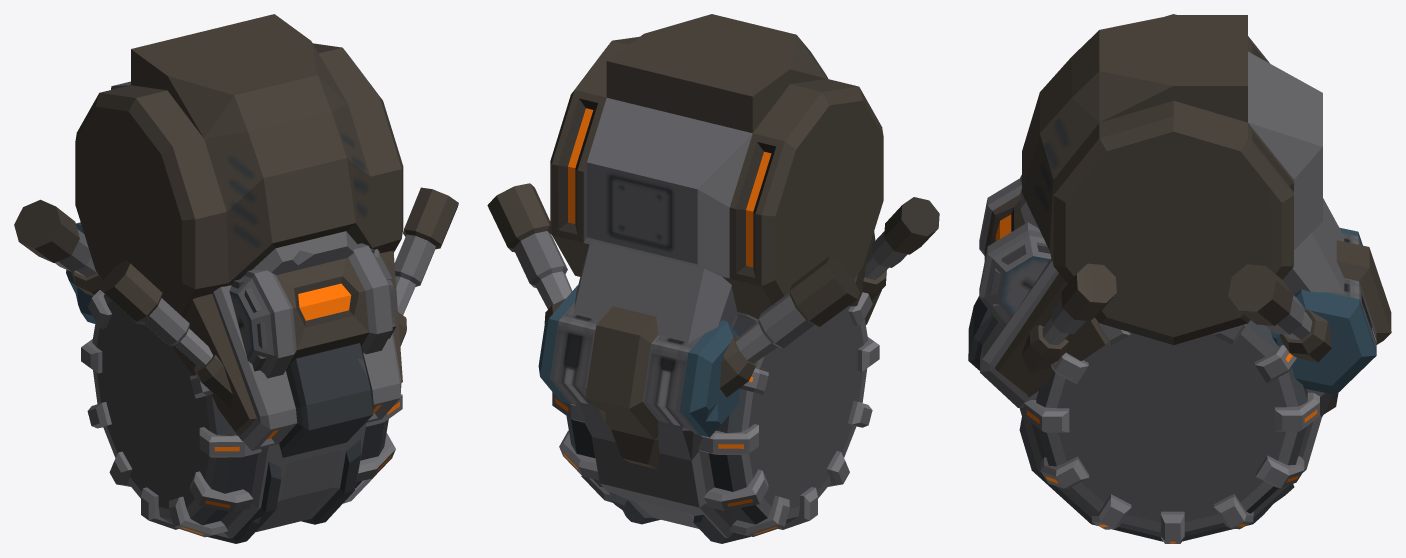
Rendered from SM_Mech_Hips_01_Armor_03.fbx.
3 renders of one model, left to right at view 1: azimuth 30°, elevation 25°; view 2: azimuth 150°, elevation 25°; view 3: azimuth 270°, elevation 25°, orthographic.
Visible parts, largest first — view 1: SM_Mech_Hips_01_Armor_03; view 2: SM_Mech_Hips_01_Armor_03; view 3: SM_Mech_Hips_01_Armor_03.
Boxes of the visible parts, x1,y1,x2,y2 form: SM_Mech_Hips_01_Armor_03: (14,14,458,543); SM_Mech_Hips_01_Armor_03: (487,14,939,543); SM_Mech_Hips_01_Armor_03: (968,14,1391,543).
Size of the model in its own units: 86.32 by 107 by 86.73.
